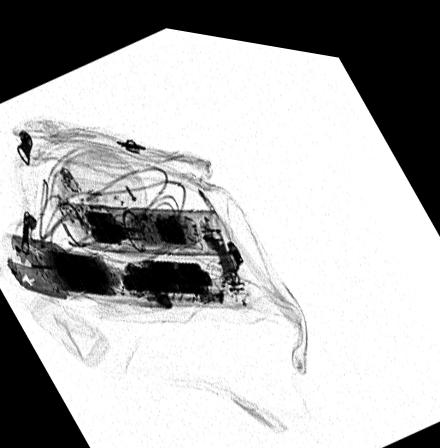Baton: (5, 230, 254, 301), (54, 196, 235, 248)
